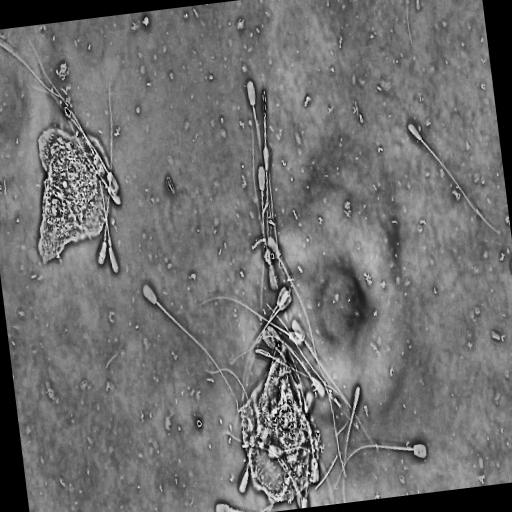coiled-tail: (262, 170, 269, 215)
dirt-particles: (235, 329, 322, 508), (34, 119, 112, 269), (52, 57, 76, 86), (164, 174, 176, 197), (264, 245, 275, 268), (140, 14, 151, 29)
loose-tail: (265, 300, 349, 479)
normal: (141, 281, 244, 410), (405, 120, 505, 237), (29, 83, 120, 197), (291, 317, 367, 439), (196, 290, 303, 348), (329, 440, 429, 496), (257, 165, 290, 318), (246, 78, 271, 210), (97, 80, 113, 267), (342, 384, 362, 503), (261, 145, 270, 218)
proximal-droplet: (69, 99, 120, 277), (109, 239, 111, 246)
